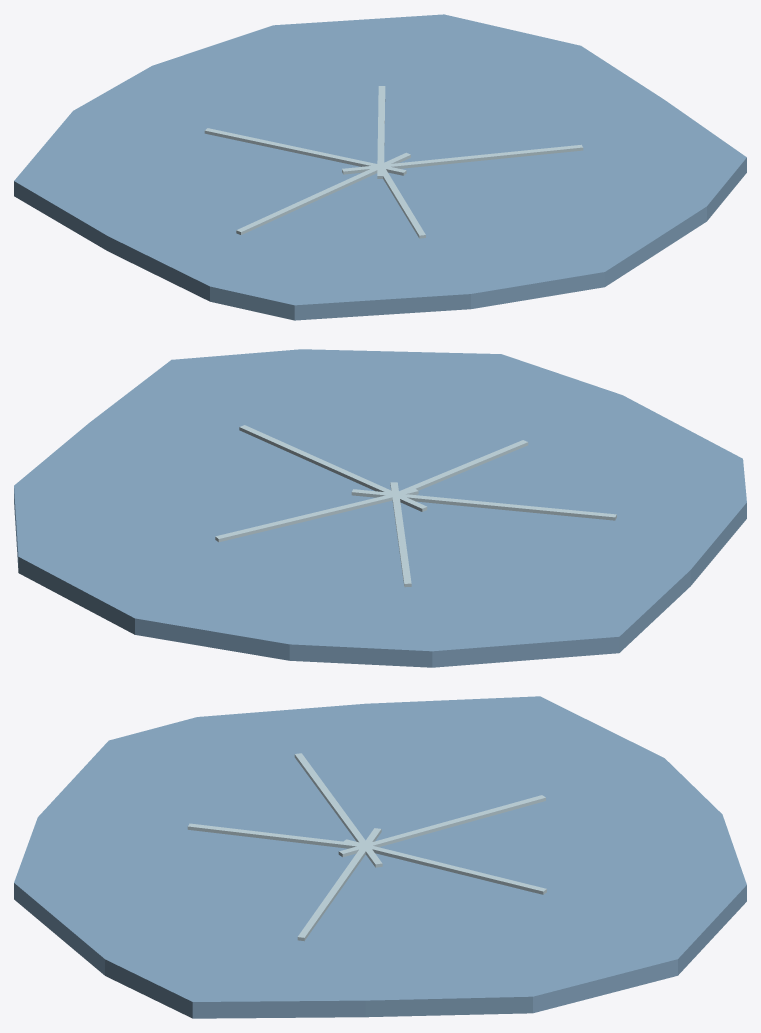
Rendered from ice_patch.glb.
3 views of the same model, one above another, from view 1: azimuth 30°, elevation 25°; view 2: azimuth 150°, elevation 25°; view 3: azimuth 270°, elevation 25° (orthographic). The views are drawn at different scales.
Visible parts, largest first — view 1: ice_patch; view 2: ice_patch; view 3: ice_patch.
Part boxes in pixels (left/top/right/bottom): ice_patch: left=14, top=14, right=746, bottom=320; ice_patch: left=14, top=349, right=746, bottom=667; ice_patch: left=14, top=696, right=746, bottom=1018.
Size of the model in its own units: 0.7885 by 0.024 by 0.7989.
